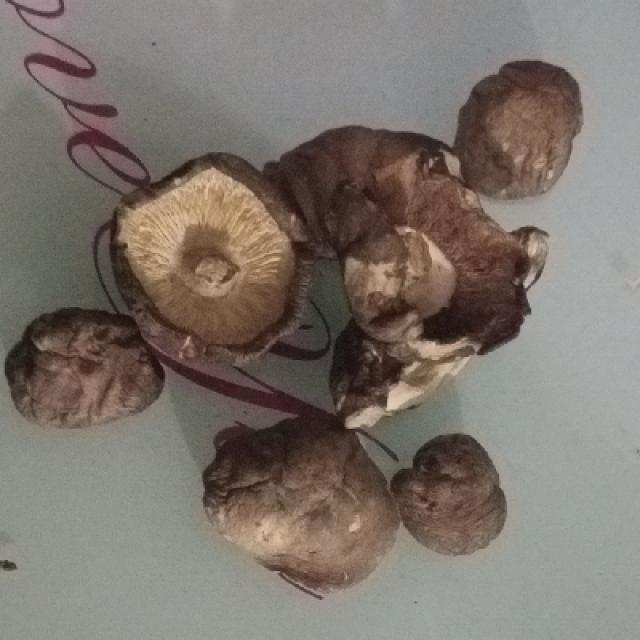Lentinus edodes: (322, 152, 550, 424), (112, 149, 307, 362), (203, 408, 405, 589), (449, 60, 585, 198), (5, 310, 172, 419), (388, 434, 507, 555)
